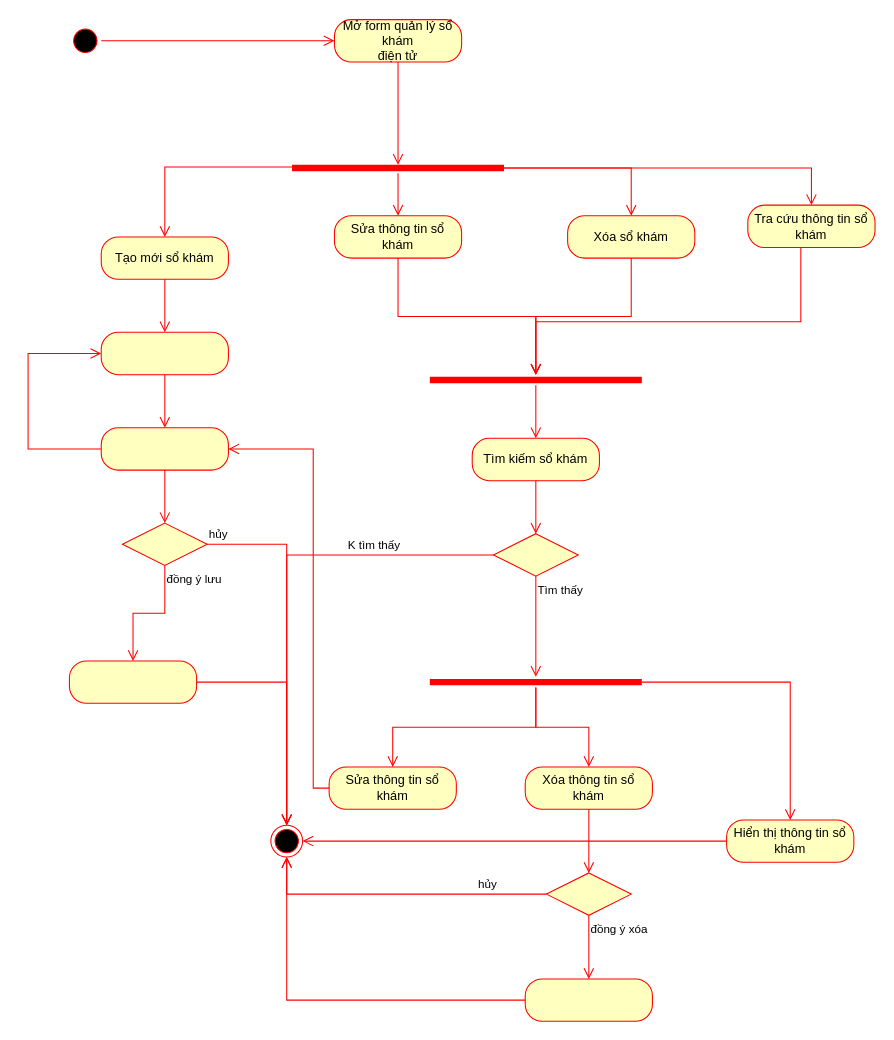
Image size: 894x1040. Some labels were removed from this diagram. Here are the shapes that lost their labels. From the top down, the box of each, then its label:
(100, 331, 228, 375): Nhập thông tin bệnh nhân
(100, 427, 228, 470): Kiểm tra thông tin bệnh nhân
(68, 660, 197, 703): Tạo sổ mới thành công
(524, 978, 652, 1021): Xóa thành công
